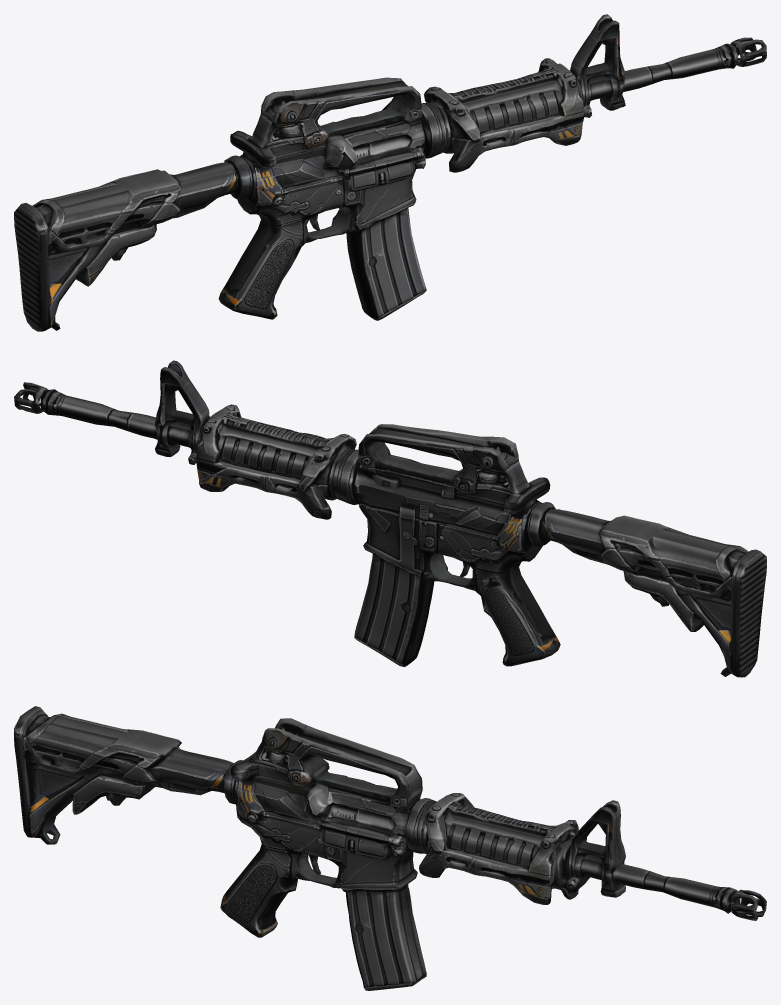
Rendered from tripo_convert_aeb23763-2734-4540-8636-2a875e48d3ba.fbx.
3 renders of one model, top to bottom at view 1: azimuth 30°, elevation 25°; view 2: azimuth 150°, elevation 25°; view 3: azimuth 330°, elevation 25°, orthographic.
Parts seen in each view (by area): view 1: tripo_node_aeb23763; view 2: tripo_node_aeb23763; view 3: tripo_node_aeb23763.
Boxes of the visible parts, left/top/right/bottom form: tripo_node_aeb23763: left=14, top=14, right=766, bottom=331; tripo_node_aeb23763: left=14, top=360, right=766, bottom=677; tripo_node_aeb23763: left=14, top=706, right=766, bottom=990.
Bounding box in the file's own units: 97.74 × 9.7 × 30.68.
Materials: 1 (1 with a texture image).
